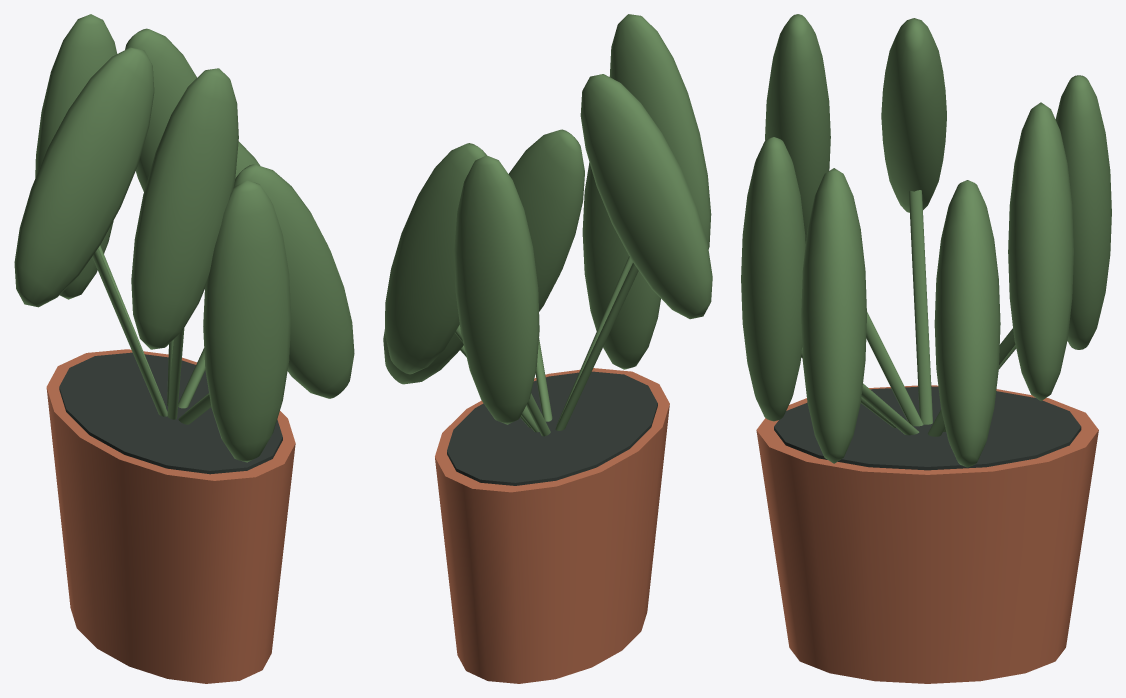
Rendered from plant.glb.
3 renders of one model, left to right at view 1: azimuth 30°, elevation 25°; view 2: azimuth 150°, elevation 25°; view 3: azimuth 270°, elevation 25°, orthographic. The views are drawn at different scales.
Visible parts, largest first — view 1: plant; view 2: plant; view 3: plant.
Boxes of the visible parts, <box> form: plant: <box>14,14,354,683</box>; plant: <box>383,14,712,683</box>; plant: <box>741,14,1111,683</box>.
Bounding box in the file's own units: 0.19 × 0.35 × 0.19.
